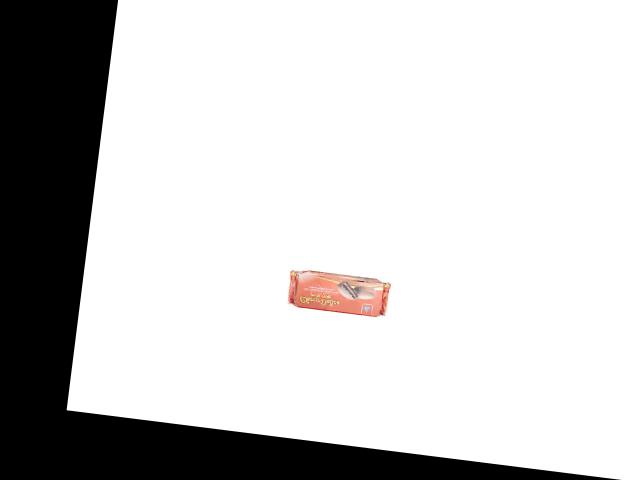chocolate: (285, 258, 394, 319)
